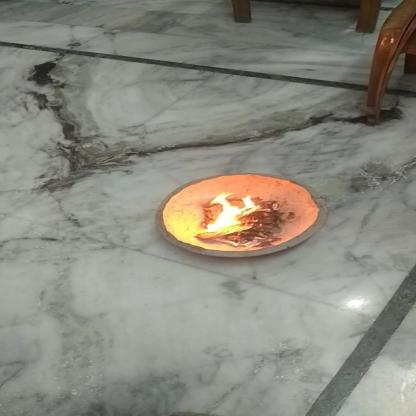fire: (195, 191, 268, 239)
